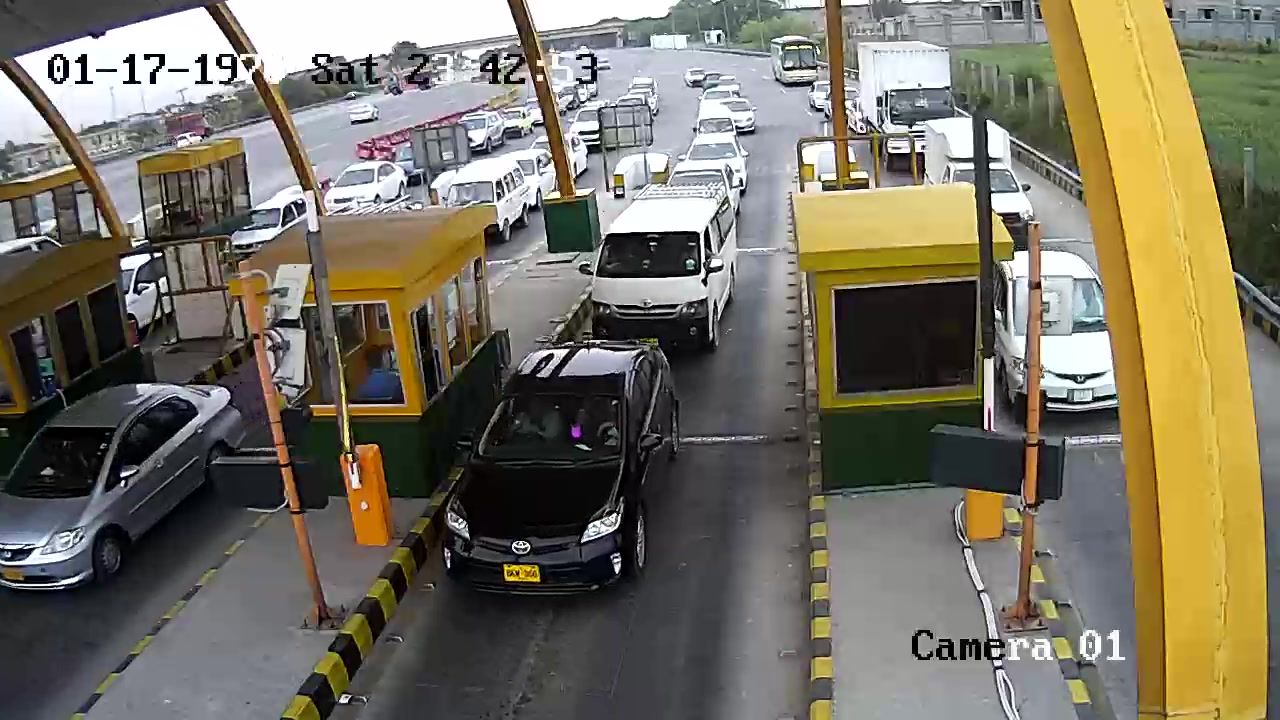F1: (439, 330, 698, 613)
